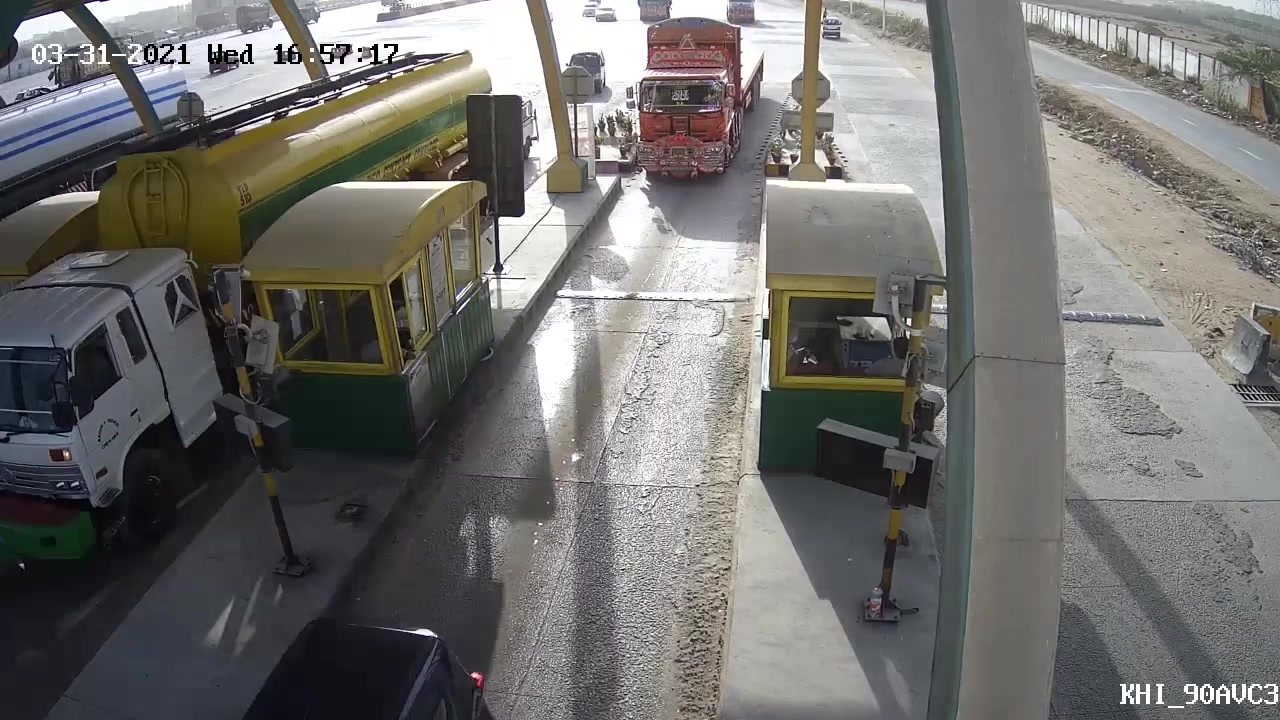F6: (627, 17, 769, 187)
